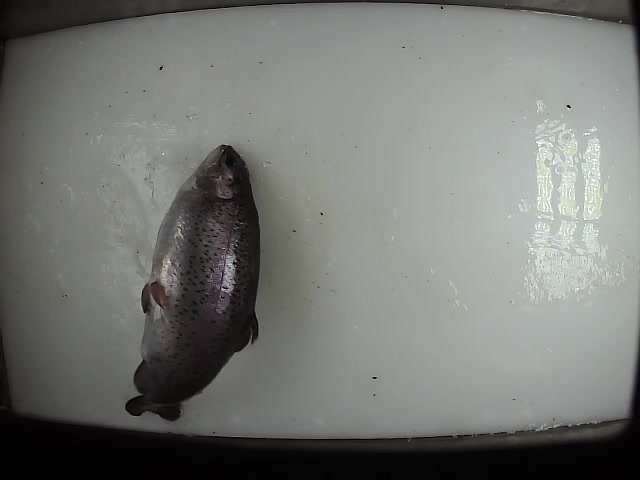Fish: (125, 143, 259, 422)
